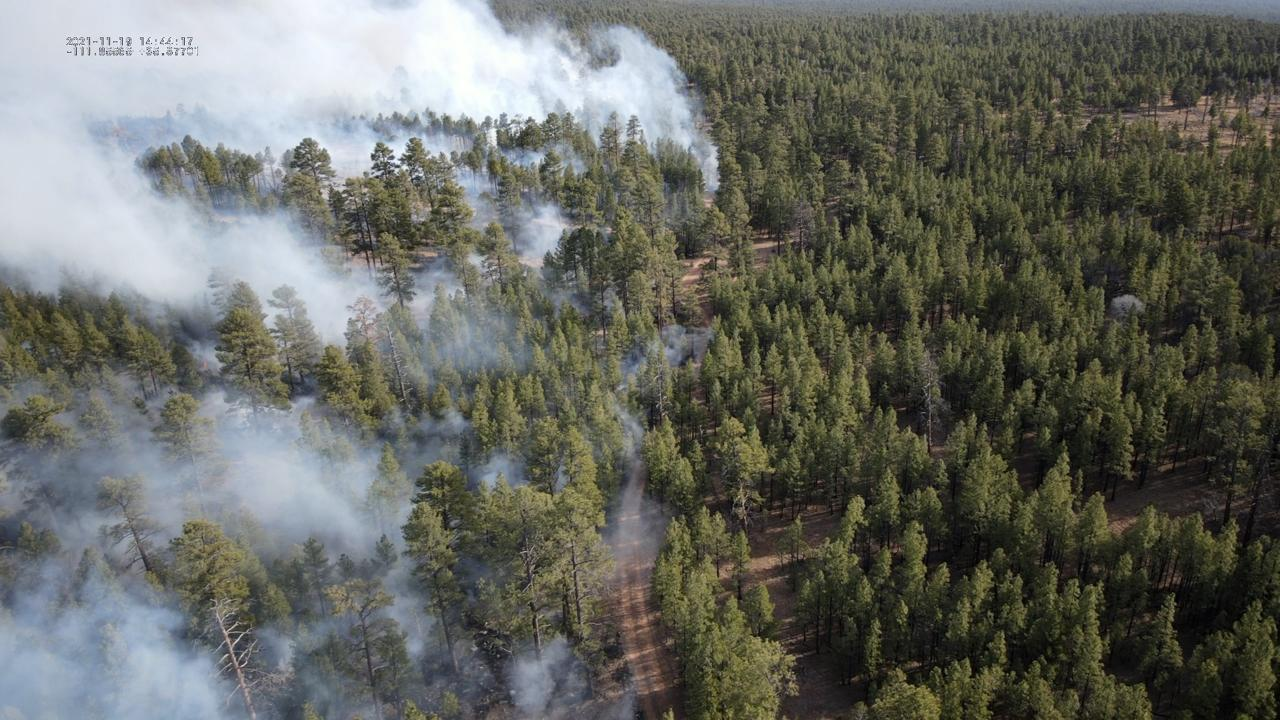smoke: (0, 0, 722, 720)
